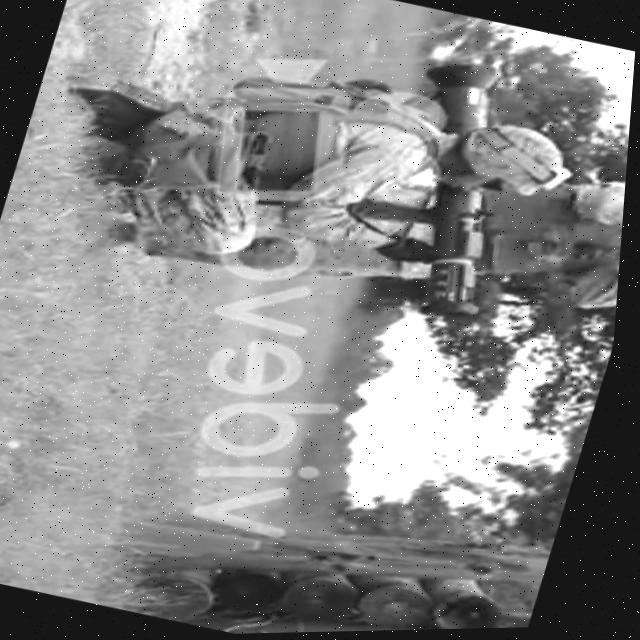rocket: (357, 46, 552, 334)
